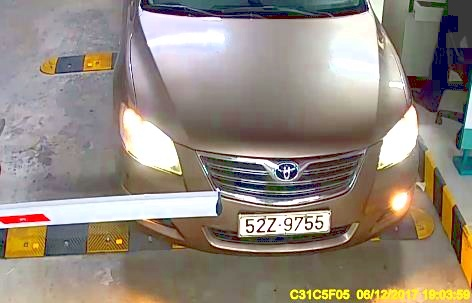plate: (233, 207, 334, 240)
